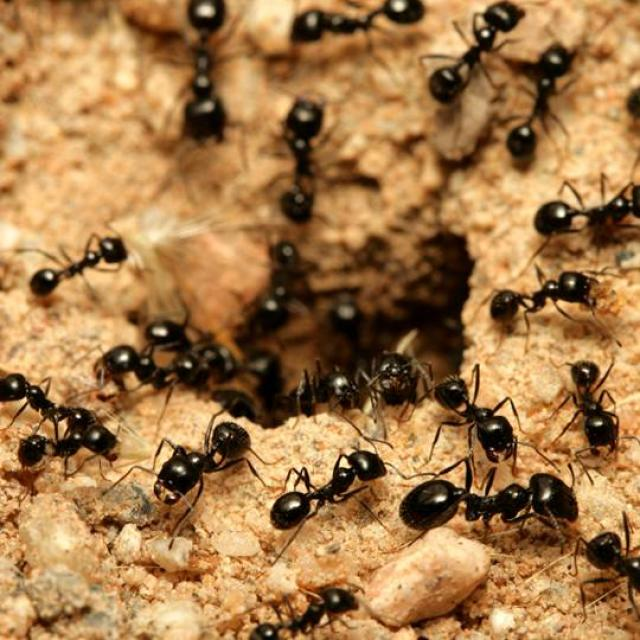ants: (390, 458, 587, 546), (416, 0, 529, 108), (269, 442, 392, 539), (152, 413, 262, 514), (428, 366, 534, 470), (502, 38, 587, 159), (22, 230, 128, 311), (236, 579, 370, 640), (553, 354, 629, 456), (482, 262, 596, 324), (19, 416, 131, 476), (91, 340, 207, 393), (287, 364, 366, 421)
